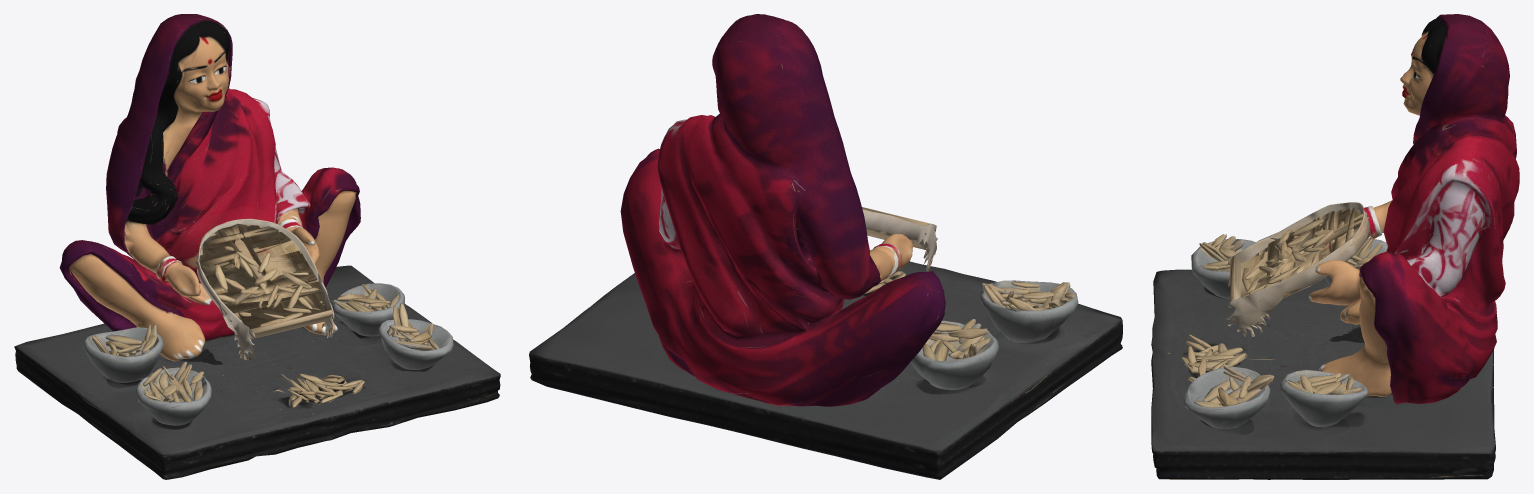
The model's file is harvest-guardian.glb.
The picture shows the model from 3 angles, left to right: view 1: azimuth 30°, elevation 25°; view 2: azimuth 150°, elevation 25°; view 3: azimuth 270°, elevation 25°; orthographic projection. The views are drawn at different scales.
Parts seen in each view (by area): view 1: harvest-guardian; view 2: harvest-guardian; view 3: harvest-guardian.
Part boxes in pixels (left/top/right/bottom): harvest-guardian: left=14, top=14, right=500, bottom=479; harvest-guardian: left=529, top=14, right=1122, bottom=479; harvest-guardian: left=1151, top=14, right=1519, bottom=479.
Bounding box in the file's own units: 0.2698 × 0.25 × 0.2281.
Materials: 1 (1 with a texture image).
